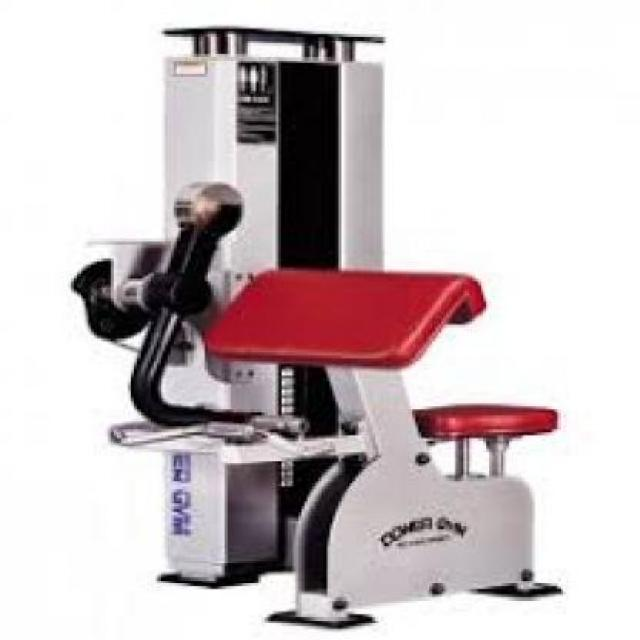arm curl machine: (69, 24, 565, 630)
